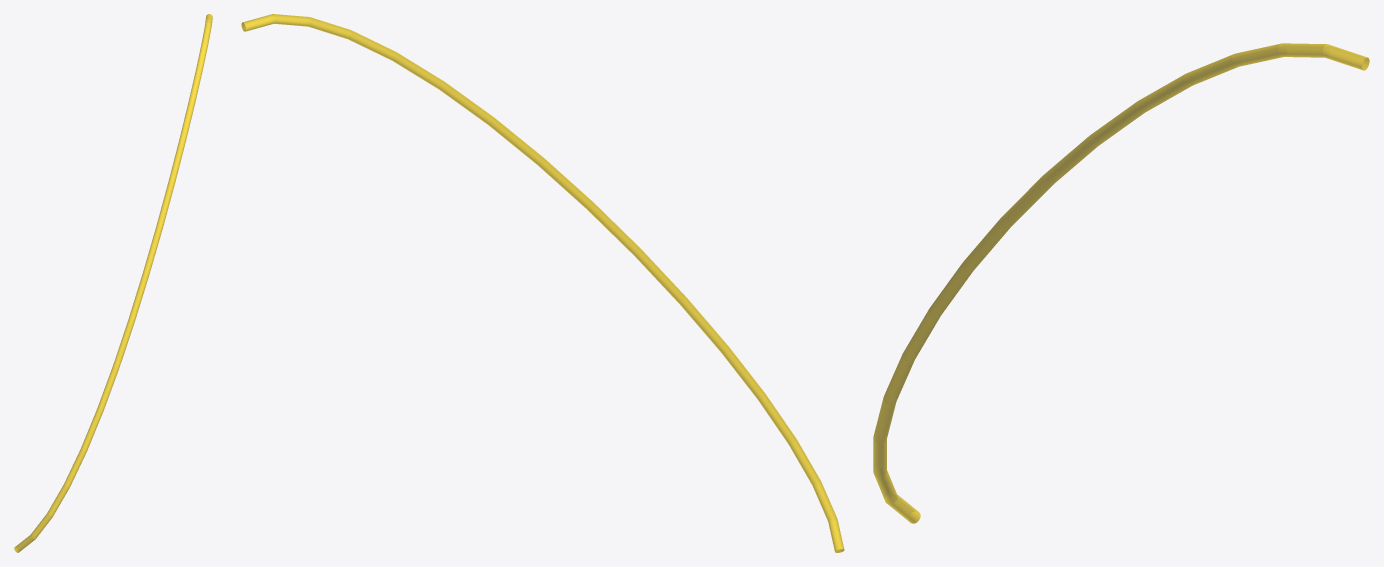
File: Event_402970704_track_5.fbx
3 renders of one model, left to right at view 1: azimuth 30°, elevation 25°; view 2: azimuth 150°, elevation 25°; view 3: azimuth 270°, elevation 25°, orthographic. The views are drawn at different scales.
Parts seen in each view (by area): view 1: Model; view 2: Model; view 3: Model.
Part boxes in pixels (box(x1,y1,x2,y2)): Model: box(14, 14, 212, 552); Model: box(241, 14, 844, 552); Model: box(873, 43, 1369, 523).
Bounding box in the file's own units: 2.09 × 2.46 × 1.45.
